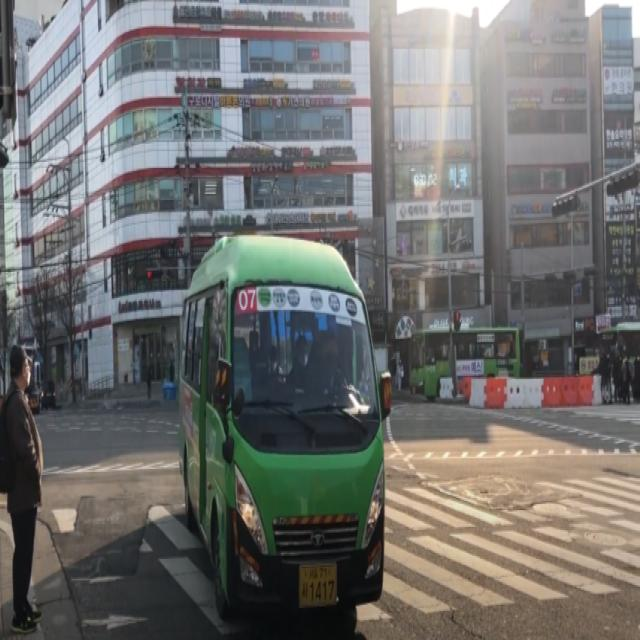bus-number: (238, 288, 256, 312)
